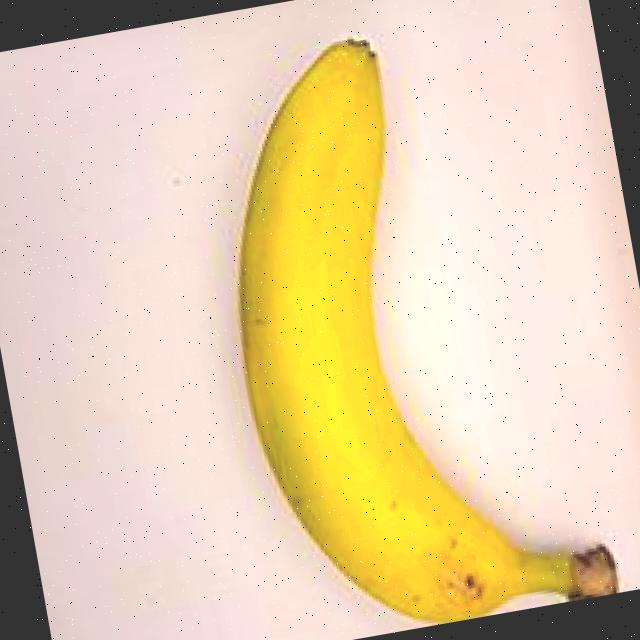Ripe: (154, 0, 640, 640)
